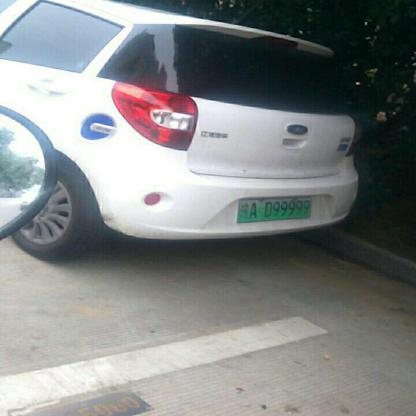lp: (235, 197, 312, 222)
